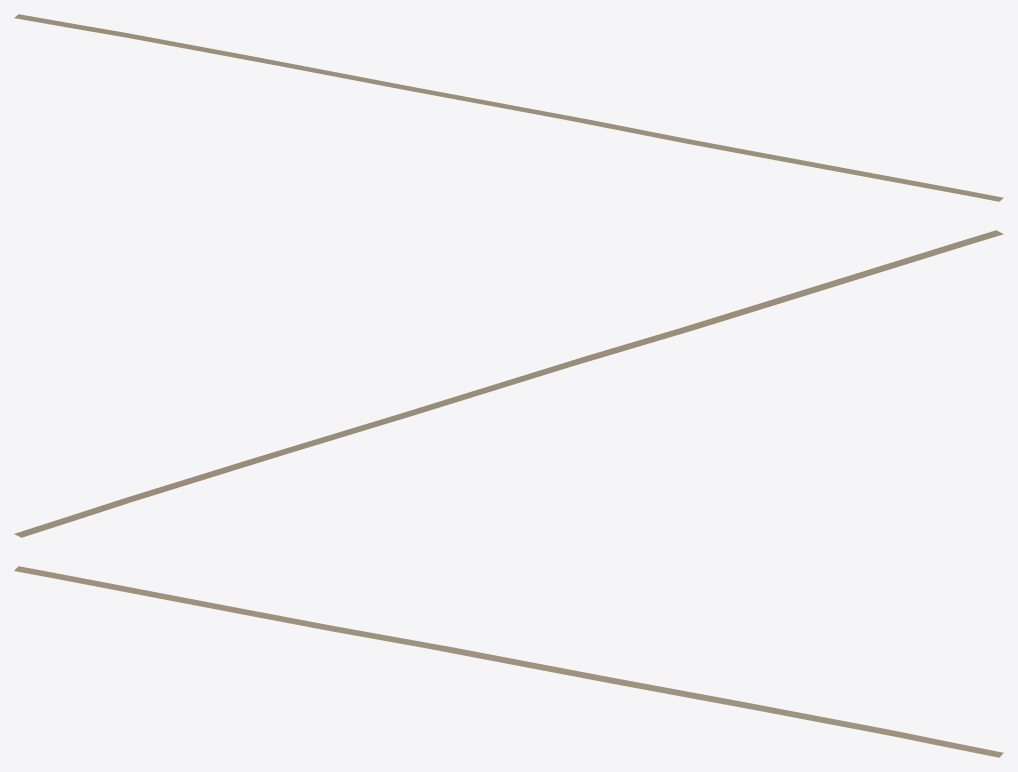
File: farm_28_21_track.glb
3 renders of one model, top to bottom at view 1: azimuth 90°, elevation 25°; view 2: azimuth 150°, elevation 25°; view 3: azimuth 270°, elevation 25°, orthographic. The views are drawn at different scales.
Visible parts, largest first — view 1: geometry_0; view 2: geometry_0; view 3: geometry_0.
Part boxes in pixels (x1,y1,x2,y2): geometry_0: [14, 14, 1003, 201]; geometry_0: [14, 230, 1003, 537]; geometry_0: [14, 566, 1003, 757].
Size of the model in its own units: 128 by 0.7721 by 282.
